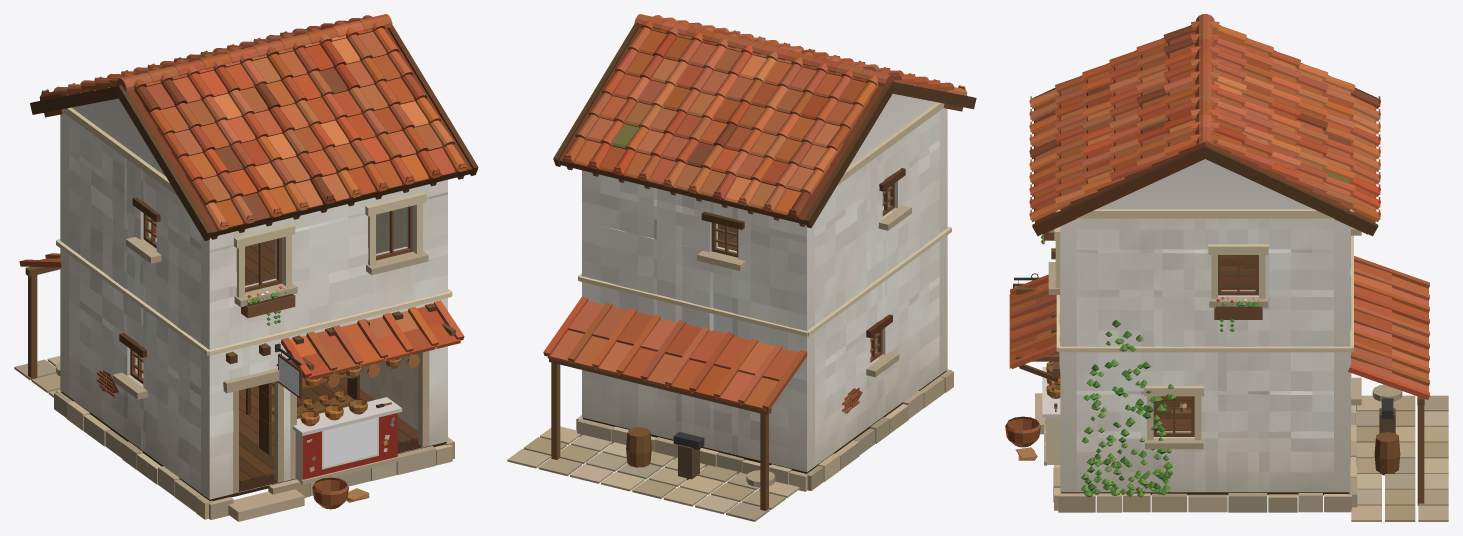
The model's file is artisan_4_2.glb.
3 renders of one model, left to right at view 1: azimuth 30°, elevation 25°; view 2: azimuth 150°, elevation 25°; view 3: azimuth 270°, elevation 25°, orthographic. The views are drawn at different scales.
Visible parts, largest first — view 1: House, Walls, Rooms; view 2: House, Walls; view 3: House, Walls, Rooms.
Part boxes in pixels (x1,y1,x2,y2): House: (14, 14, 478, 521); Walls: (60, 98, 447, 499); Rooms: (142, 207, 418, 483); House: (507, 14, 976, 521); Walls: (582, 94, 947, 472); House: (1005, 14, 1448, 521); Walls: (1059, 159, 1351, 492); Rooms: (1157, 255, 1255, 431).
Size of the model in its own units: 4.28 by 5.58 by 5.96.
6 materials, 6 textured.
